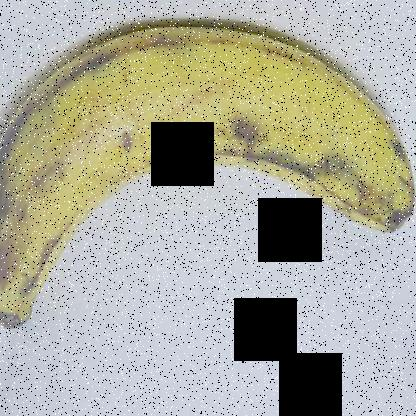ripe: (1, 8, 413, 339)
